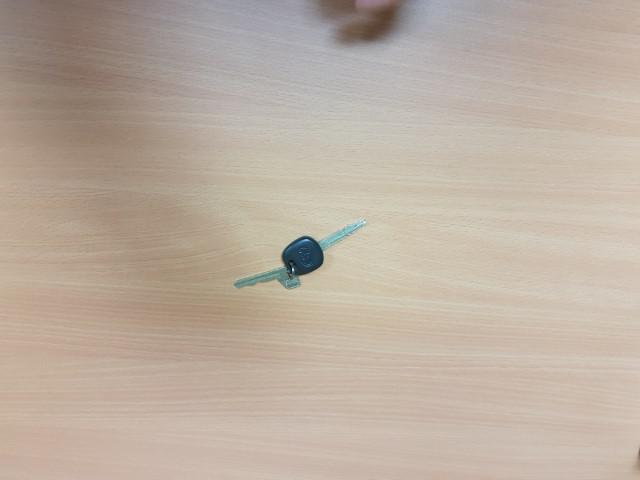key: (280, 217, 371, 278)
